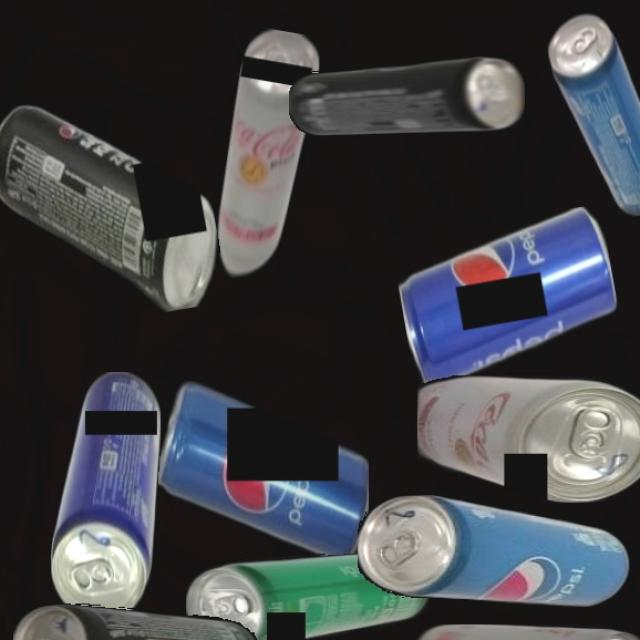debris: (0, 75, 229, 338), (391, 204, 625, 388), (156, 380, 369, 561), (358, 493, 630, 607), (205, 26, 324, 286), (416, 375, 640, 503), (50, 371, 160, 620), (186, 550, 430, 640), (542, 4, 640, 225), (288, 57, 525, 136), (13, 602, 257, 640)
